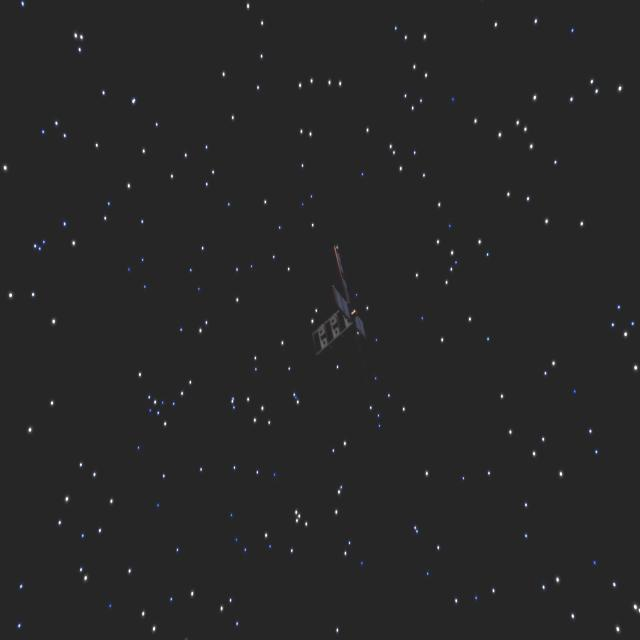satellite: (316, 249, 391, 375)
